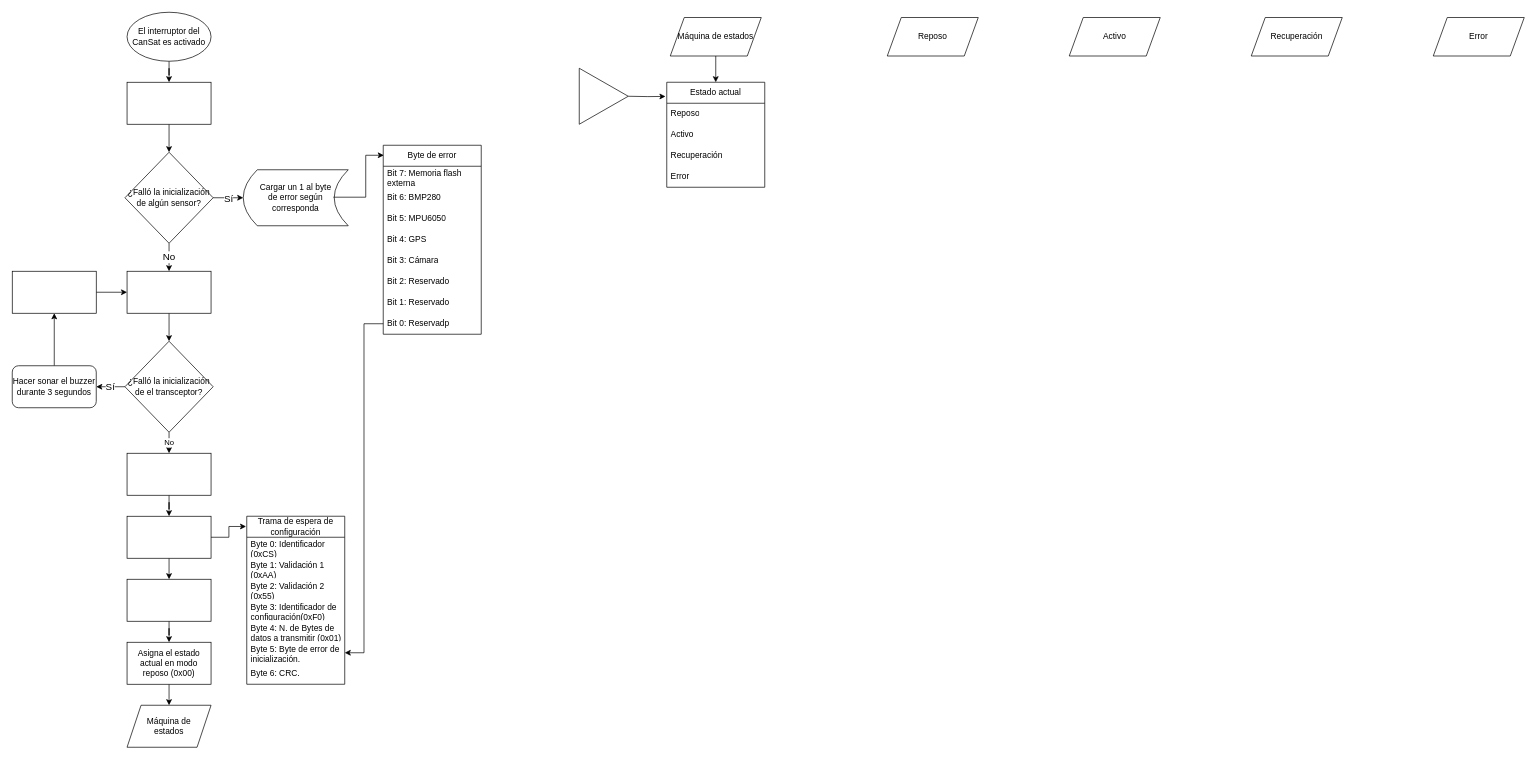
This 1537x760 diagram has some shape labels left out. Here are the shapes that lost their labels. From the top down, the centre of each, then its label:
At [168,103]: "Envía un mensaje para conocer el estado de todos los sensores".
At [603,96]: "Cambio estado".
At [54,292]: "Esperar 3 segundos".
At [168,292]: "Inicializar el NRF24".
At [168,474]: "Configurar el NRF24 como transmisor".
At [168,537]: "Transmitir Trama para notificar que esta listo para configuración".
At [168,600]: "Configurar el NRF24 como receptor".
